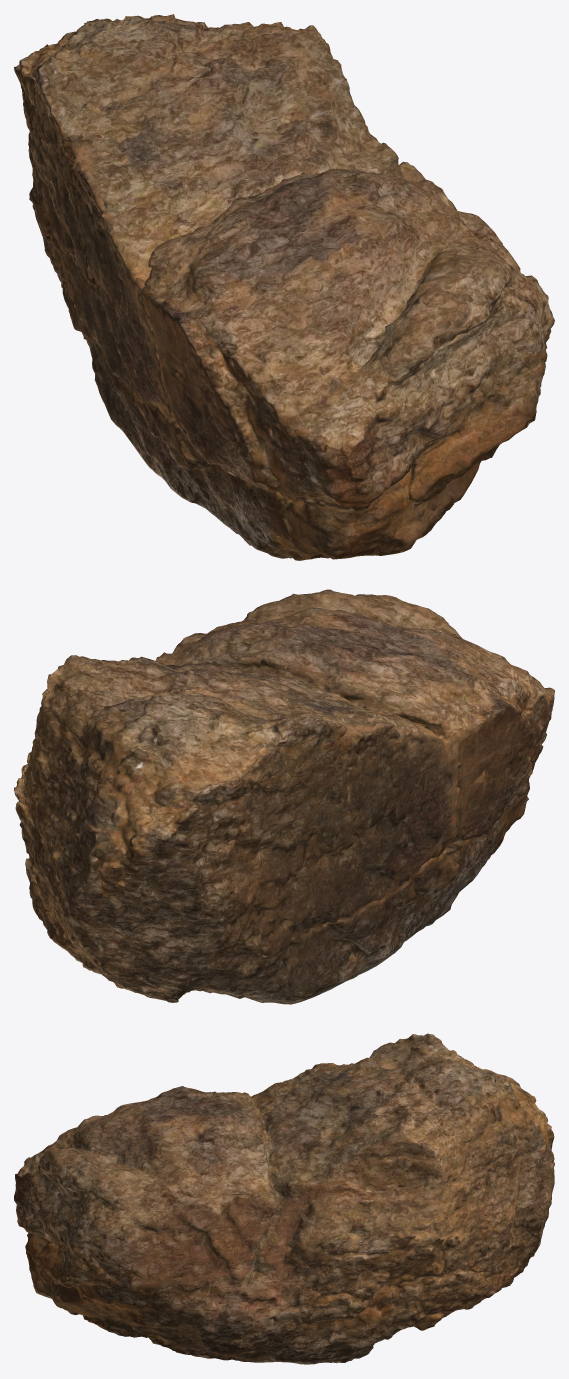
File: namaqualand-boulder-06.glb
3 views of the same model, one above another, from view 1: azimuth 30°, elevation 25°; view 2: azimuth 150°, elevation 25°; view 3: azimuth 270°, elevation 25° (orthographic). The views are drawn at different scales.
Parts seen in each view (by area): view 1: namaqualand_boulder_06; view 2: namaqualand_boulder_06; view 3: namaqualand_boulder_06.
Part boxes in pixels (x1,y1,x2,y2): namaqualand_boulder_06: [14, 14, 554, 560]; namaqualand_boulder_06: [14, 589, 554, 1004]; namaqualand_boulder_06: [14, 1033, 554, 1364].
Size of the model in its own units: 0.6745 by 0.6516 by 1.21.
Materials: 1 (1 with a texture image).
